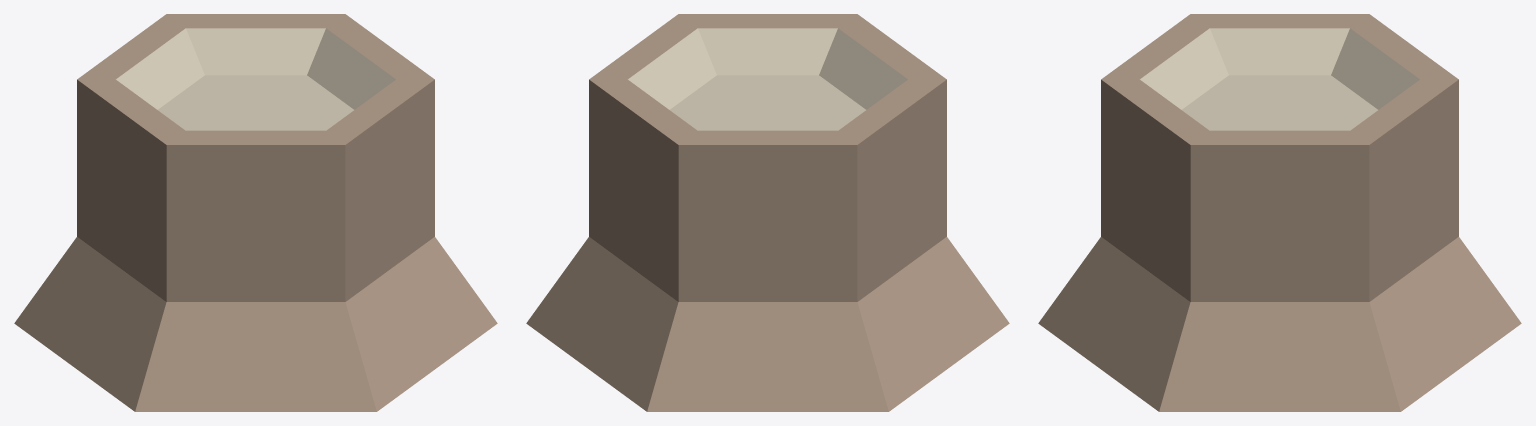
The model's file is stump.glb.
3 views of the same model, side by side, from view 1: azimuth 30°, elevation 25°; view 2: azimuth 150°, elevation 25°; view 3: azimuth 270°, elevation 25° (orthographic).
Parts seen in each view (by area): view 1: stump; view 2: stump; view 3: stump.
Part boxes in pixels (x1,y1,x2,y2): stump: (14,14,497,411); stump: (526,14,1009,411); stump: (1038,14,1521,411).
Bounding box in the file's own units: 12.12 × 7.79 × 14.
